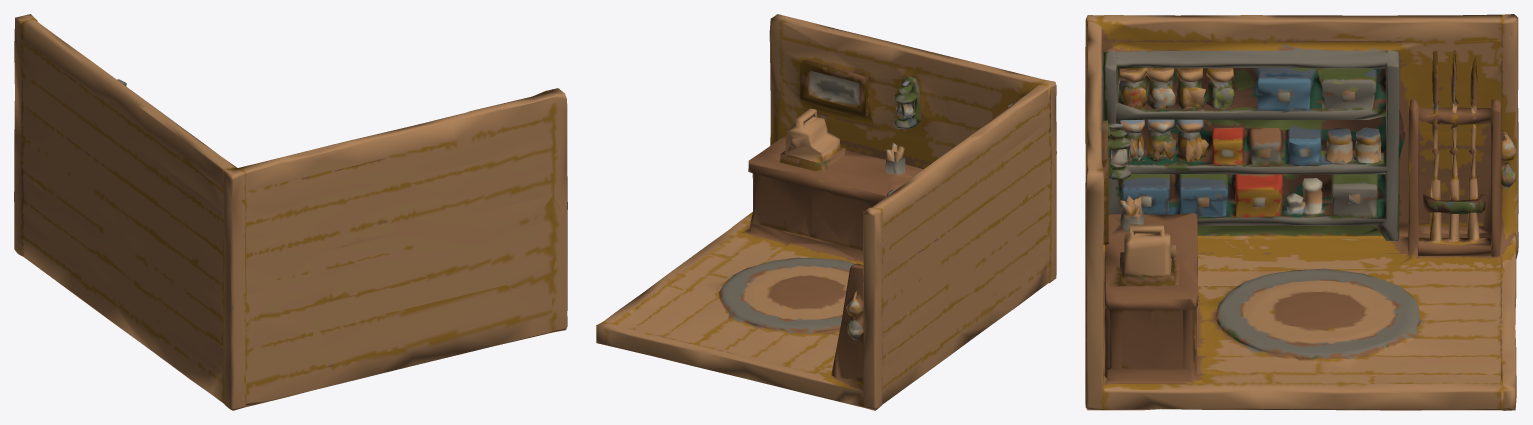
The model's file is room-shop.glb.
The picture shows the model from 3 angles, left to right: view 1: azimuth 30°, elevation 25°; view 2: azimuth 150°, elevation 25°; view 3: azimuth 270°, elevation 25°; orthographic projection. The views are drawn at different scales.
Parts seen in each view (by area): view 1: tripo_node_010f1efd-0eec-4c2f-9e36-b5cb15aacdae; view 2: tripo_node_010f1efd-0eec-4c2f-9e36-b5cb15aacdae; view 3: tripo_node_010f1efd-0eec-4c2f-9e36-b5cb15aacdae.
Part boxes in pixels (box(x1,y1,x2,y2)): tripo_node_010f1efd-0eec-4c2f-9e36-b5cb15aacdae: box(14, 14, 567, 410); tripo_node_010f1efd-0eec-4c2f-9e36-b5cb15aacdae: box(596, 14, 1056, 410); tripo_node_010f1efd-0eec-4c2f-9e36-b5cb15aacdae: box(1085, 14, 1518, 410).
Size of the model in its own units: 0.8914 by 0.5988 by 1.
Materials: 1 (1 with a texture image).
